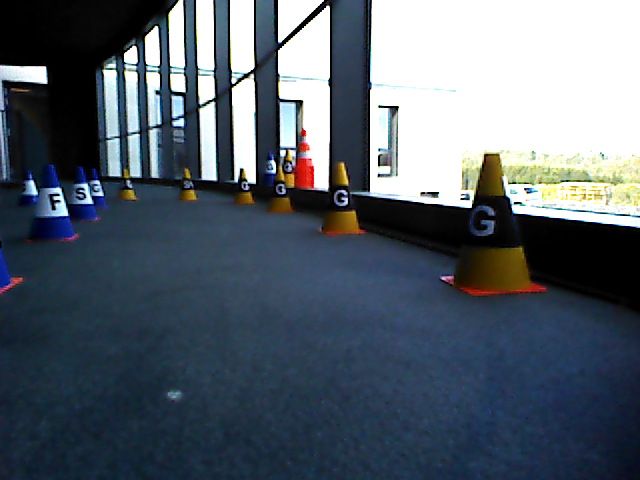bluecone: (31, 164, 74, 236), (70, 166, 95, 218), (22, 168, 41, 202), (93, 168, 106, 205)
yellowcone: (456, 155, 530, 287), (323, 161, 357, 229), (270, 166, 290, 209), (235, 169, 252, 201), (181, 168, 196, 198), (120, 169, 135, 197)
